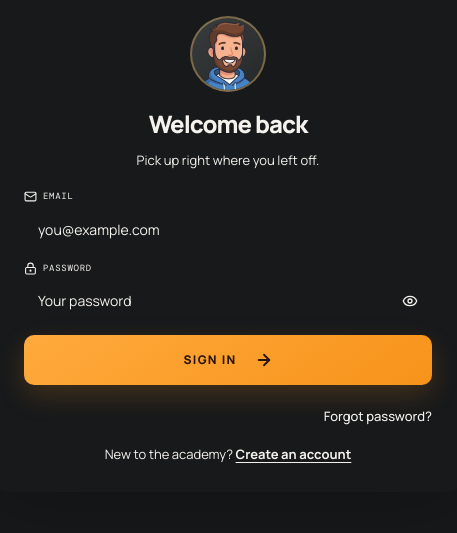
Test: login › shows a friendly message for over_request_rate_limit (HTTP 429)
This screenshot has width=457, height=533.
Type "learner@example.com" into the field with placeholder "you@example.com" at (228, 229), box x1=24 y1=209 x2=432 y2=250
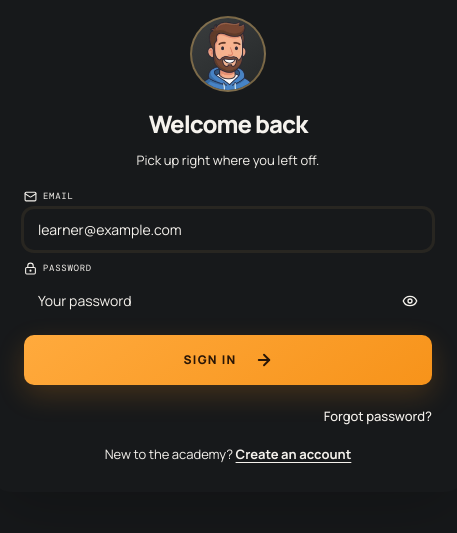
Type "wrong-pass" into the password field with placeholder "Your password" at (228, 301), box x1=24 y1=280 x2=432 y2=321
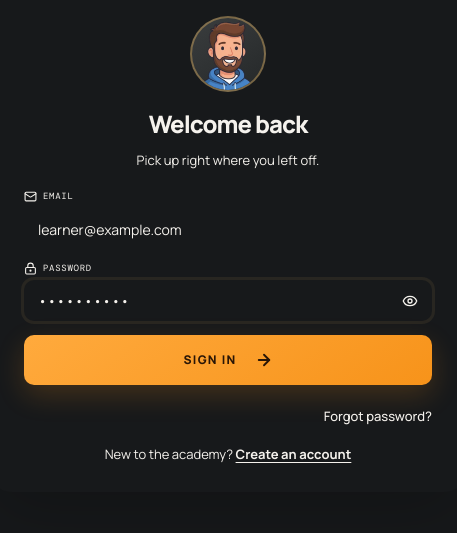
Click the button "Sign in" at (228, 360), box x1=24 y1=335 x2=432 y2=385
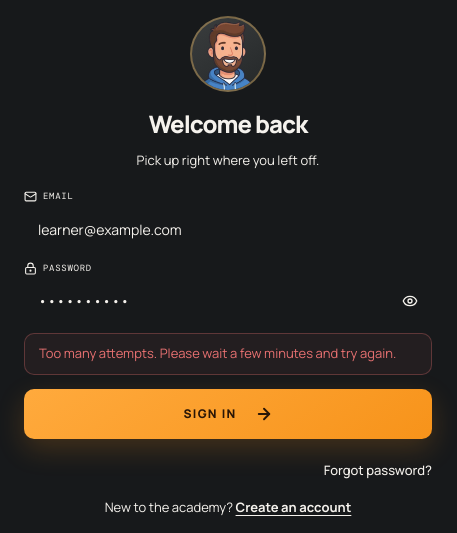
Now the text "Too many attempts. Please wait a few minutes and try again." is shown, box x1=24 y1=333 x2=432 y2=375
